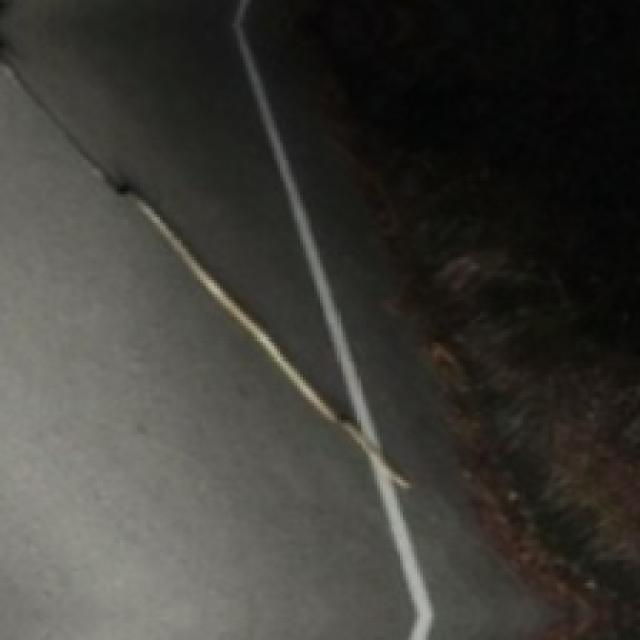king cobra: (246, 0, 637, 637), (3, 0, 349, 409)
